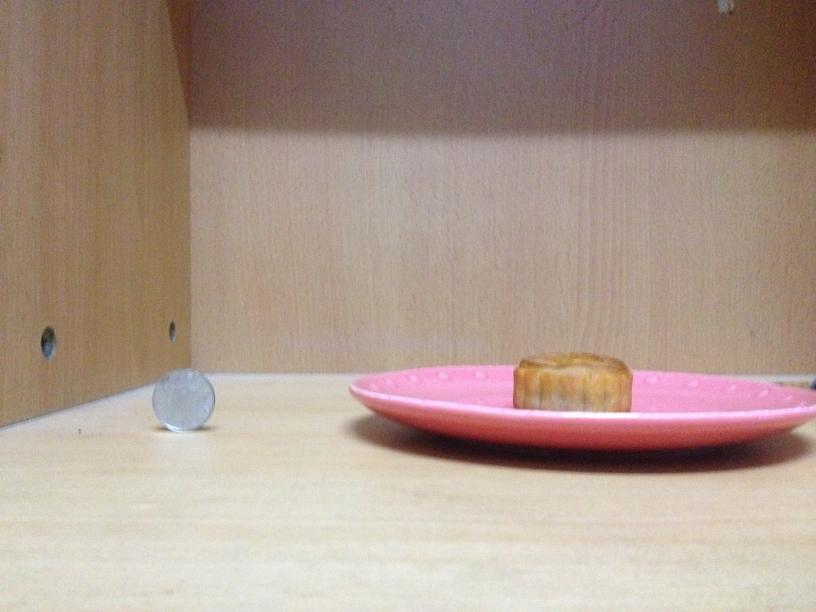coin: (146, 367, 214, 429)
mooncake: (508, 355, 633, 414)
